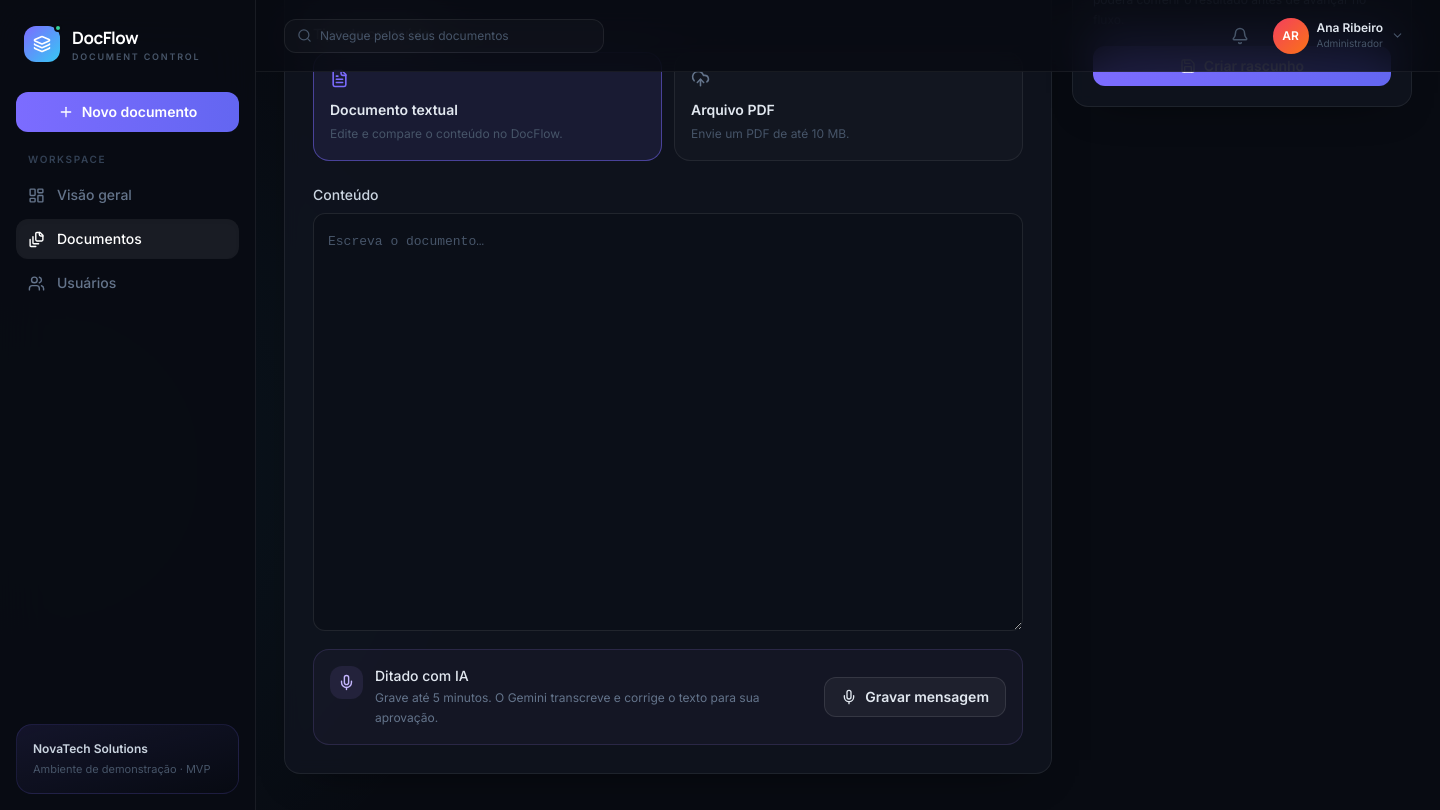
grava, mostra a transcrição corrigida e só insere após confirmação
The image size is (1440, 810).
(page scrolled)
Click the button "Gravar mensagem": (915, 697) [824,677,1006,717]
(page scrolled)
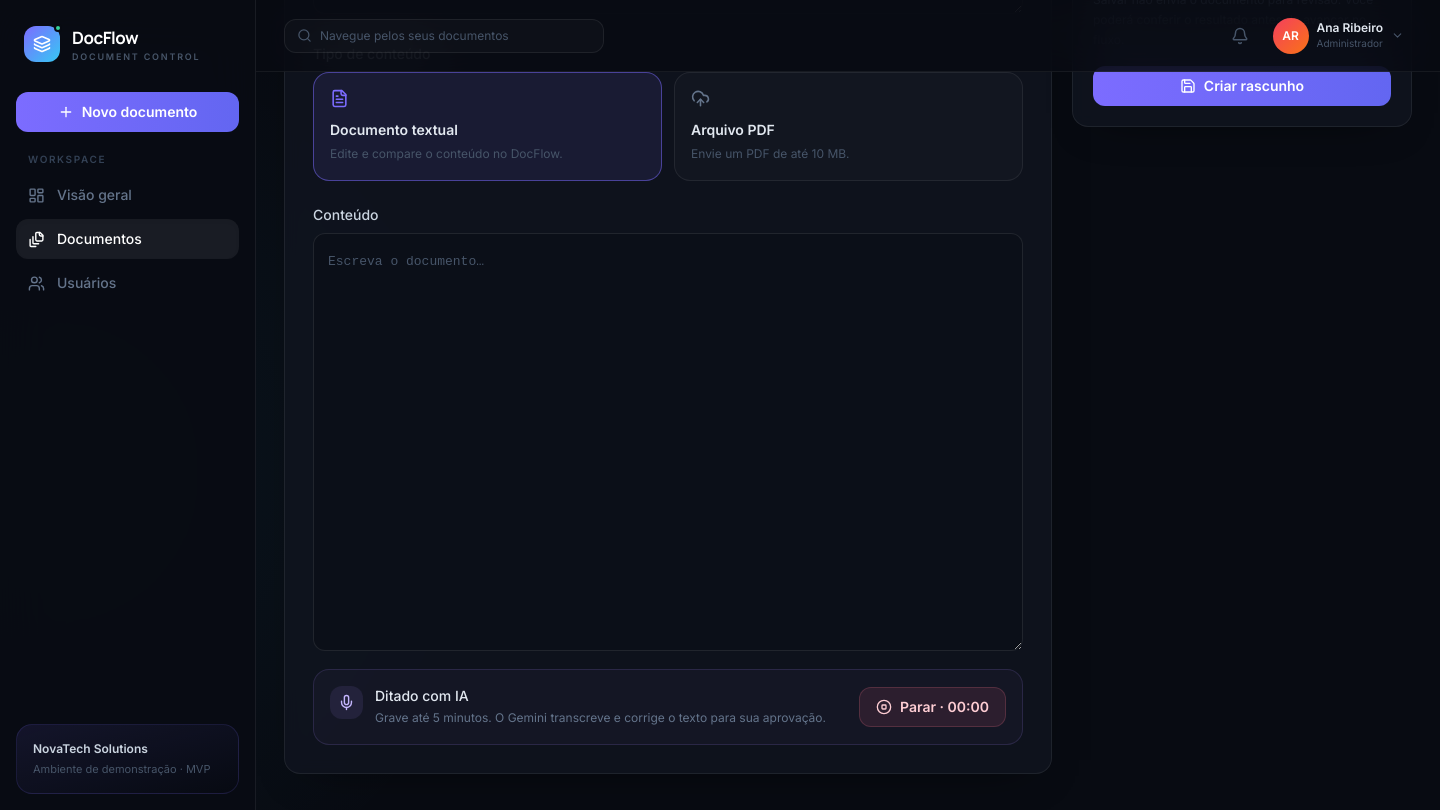
Expected: the button "Parar · 00:00" is shown
Click the button "Parar · 00:00": (933, 707) [859,687,1006,727]
(page scrolled)
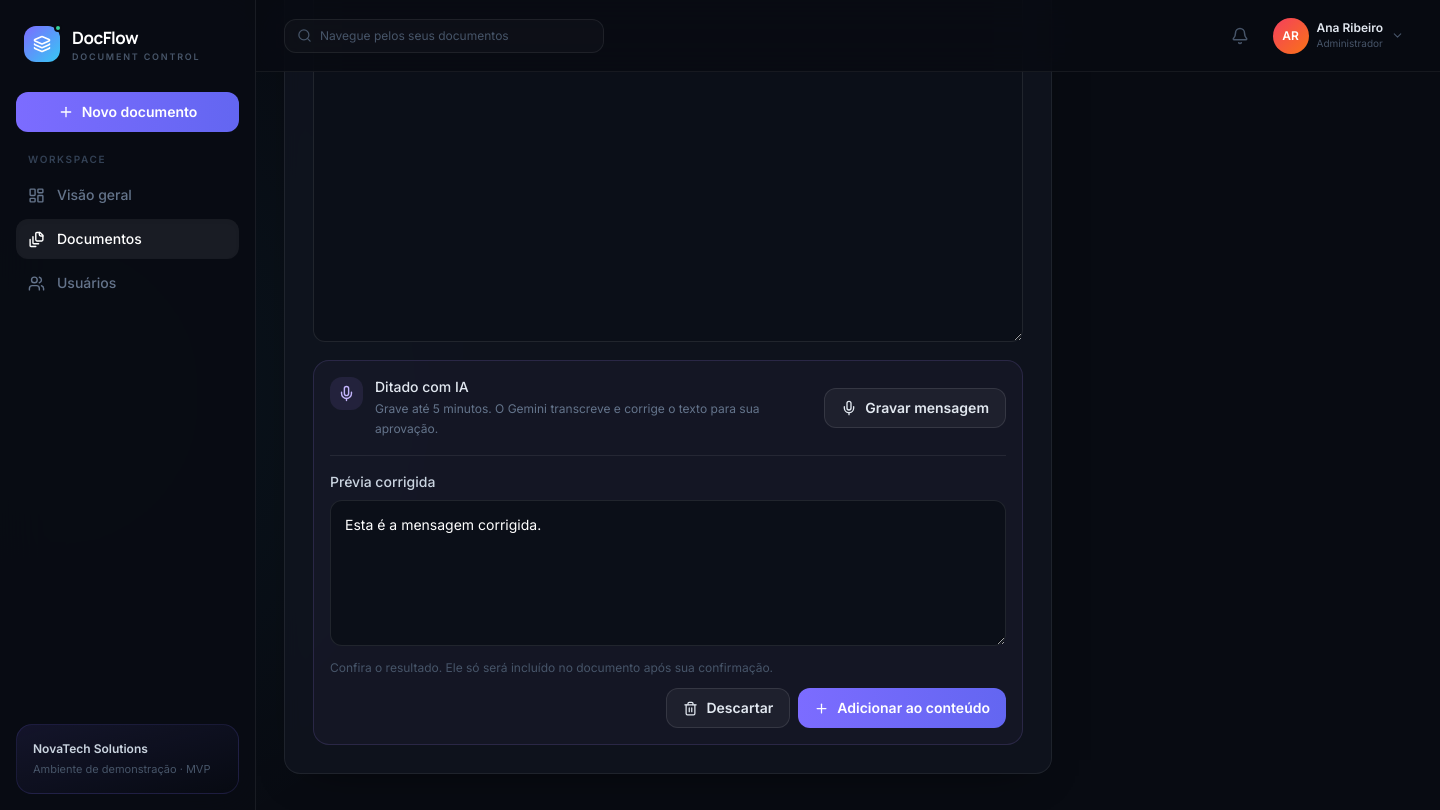
Expected: the text box labelled "Prévia corrigida" holds "Esta é a mensagem corrigida.", [330,500,1006,646]
Click the button "Adicionar ao conteúdo": (902, 708) [798,688,1006,728]
(page scrolled)
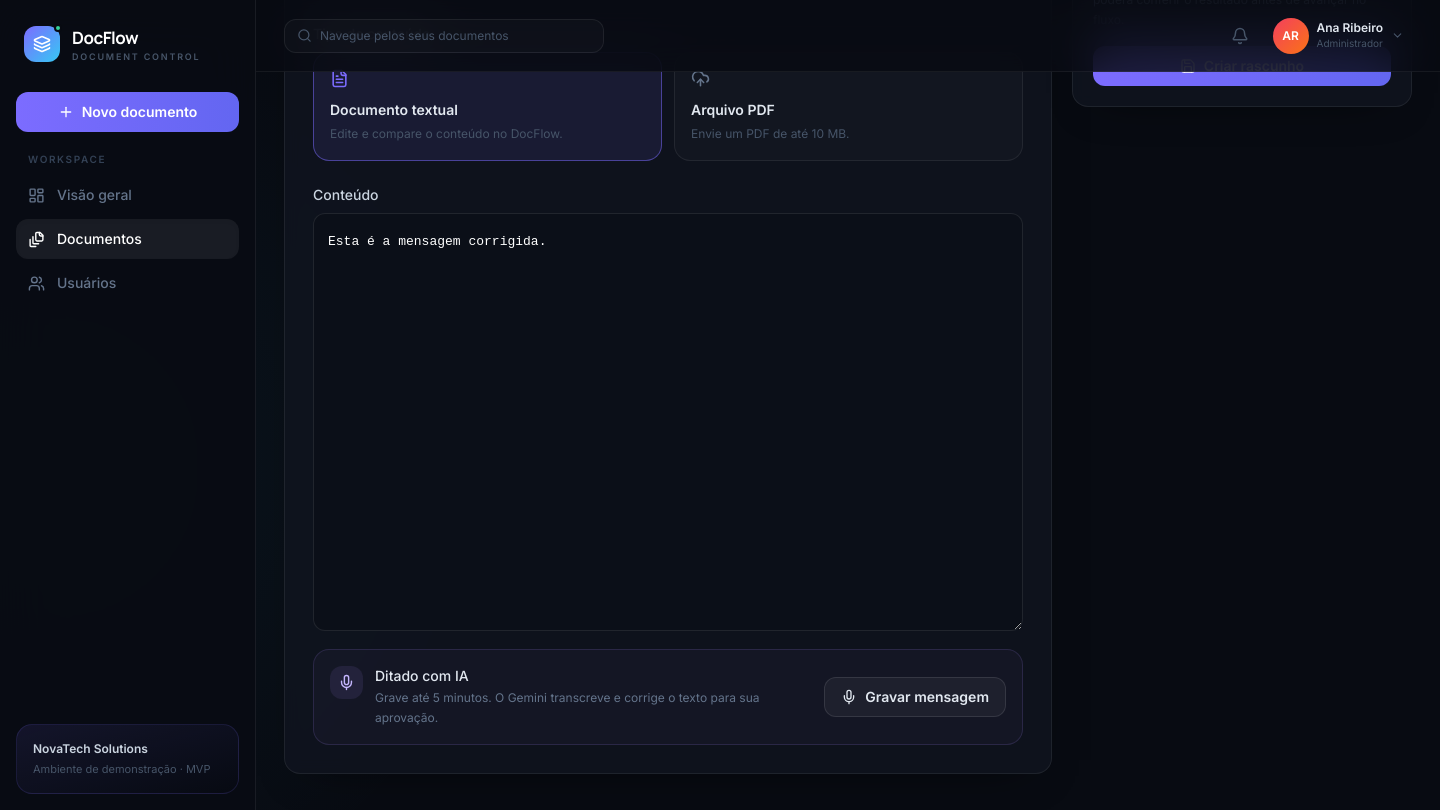
Expected: the text box labelled "Conteúdo" holds "Esta é a mensagem corrigida.", [313,213,1023,631]
